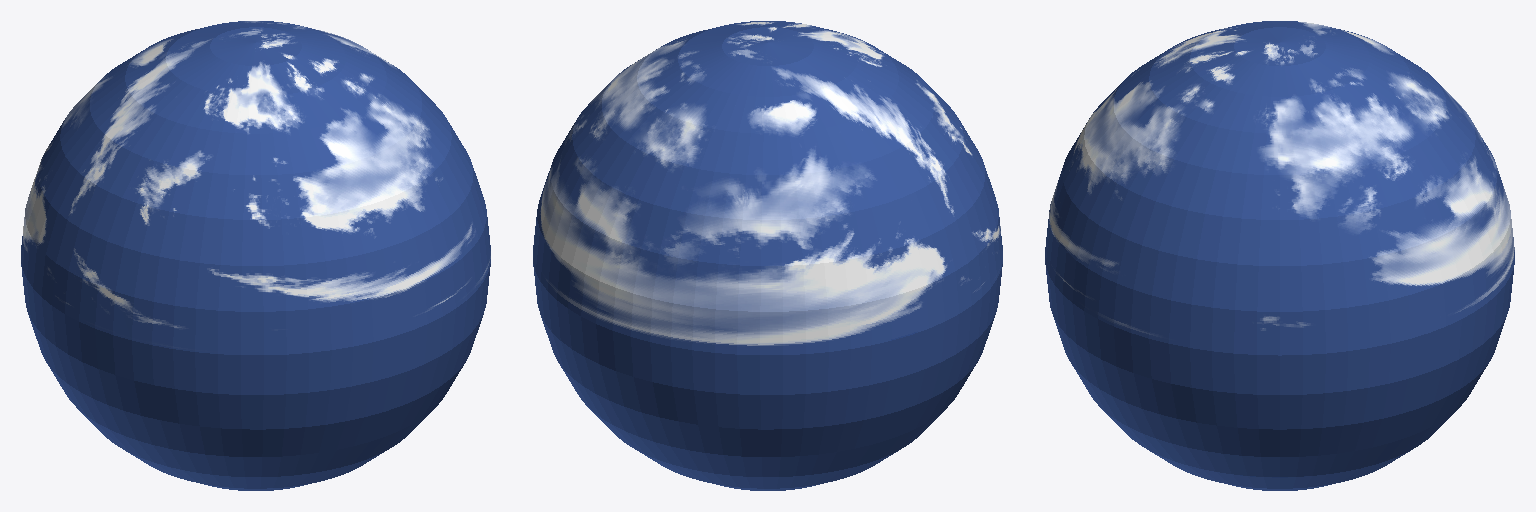
3 views of the same model, side by side, from view 1: azimuth 30°, elevation 25°; view 2: azimuth 150°, elevation 25°; view 3: azimuth 270°, elevation 25° (orthographic).
Parts seen in each view (by area): view 1: Sphere_Sphere.001; view 2: Sphere_Sphere.001; view 3: Sphere_Sphere.001.
Part boxes in pixels (left/top/right/bottom): Sphere_Sphere.001: left=21, top=21, right=490, bottom=490; Sphere_Sphere.001: left=533, top=21, right=1002, bottom=490; Sphere_Sphere.001: left=1045, top=21, right=1514, bottom=490.
Bounding box in the file's own units: 2 × 2 × 2.
1 materials, 1 textured.